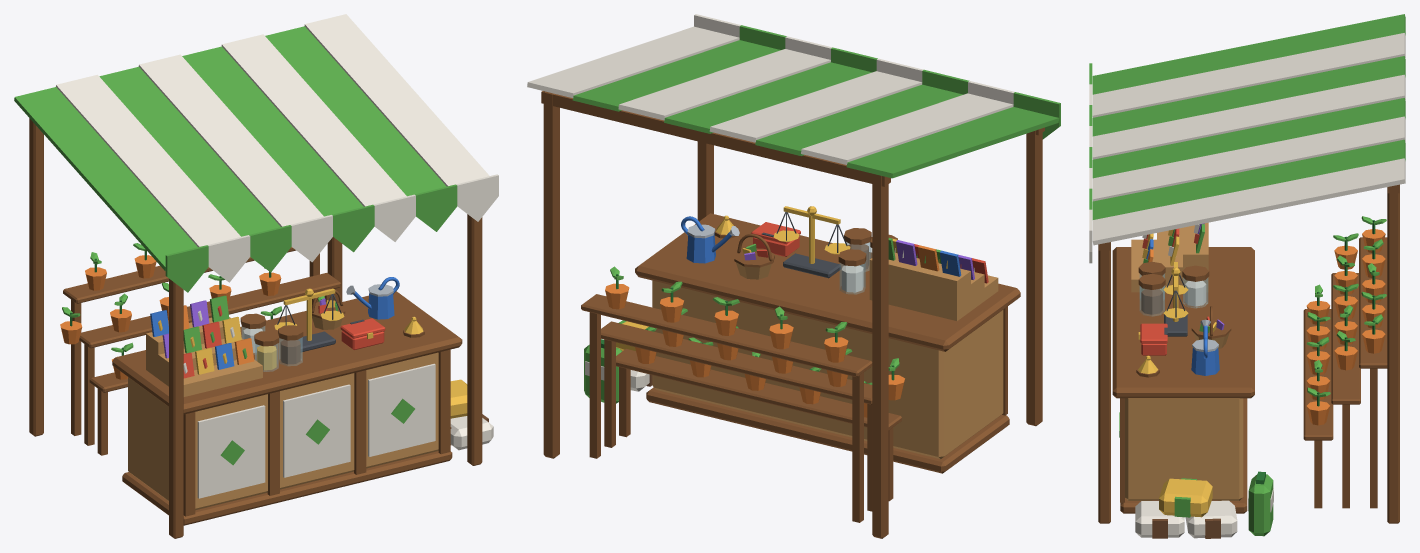
File: seed-shop-counter.glb
3 views of the same model, side by side, from view 1: azimuth 30°, elevation 25°; view 2: azimuth 150°, elevation 25°; view 3: azimuth 270°, elevation 25° (orthographic). The views are drawn at different scales.
Visible parts, largest first — view 1: Counter_Top, Counter_Body, Awning_Stripe_0, Awning_Stripe_7, Awning_Stripe_5, Awning_Stripe_1, Awning_Stripe_3, Awning_Stripe_2, Awning_Stripe_4, Awning_Stripe_6, Counter_Panel_0, Counter_Panel_1 (+30 smaller); view 2: Counter_Body, Counter_Top, Awning_Post_BR, Awning_Post_BL, Awning_Stripe_0, Awning_Stripe_7, Awning_Stripe_5, Awning_Stripe_3, Awning_Stripe_1, Awning_Post_FL, Shelf_Tier_2, Counter_Base (+24 smaller); view 3: Counter_Top, Counter_Body, Awning_Stripe_7, Awning_Stripe_3, Awning_Stripe_5, Awning_Stripe_1, Awning_Stripe_0, Awning_Stripe_2, Awning_Stripe_6, Awning_Stripe_4, Awning_Post_BR, Awning_Post_FR (+25 smaller).
Part boxes in pixels (x1,y1,x2,y2): Counter_Top: [112, 291, 462, 414]; Counter_Body: [128, 352, 438, 510]; Awning_Stripe_0: [14, 87, 197, 270]; Awning_Stripe_7: [304, 14, 489, 186]; Awning_Stripe_5: [221, 34, 406, 206]; Awning_Stripe_1: [56, 74, 240, 247]; Awning_Stripe_3: [138, 54, 323, 226]; Awning_Stripe_2: [99, 66, 280, 236]; Awning_Stripe_4: [182, 46, 363, 216]; Awning_Stripe_6: [265, 26, 446, 196]; Counter_Panel_0: [197, 405, 265, 498]; Counter_Panel_1: [283, 384, 350, 477]; Counter_Body: [652, 280, 1003, 459]; Counter_Top: [635, 213, 1020, 351]; Awning_Post_BR: [543, 91, 559, 458]; Awning_Post_BL: [872, 174, 888, 538]; Awning_Stripe_0: [846, 107, 1058, 178]; Awning_Stripe_7: [527, 26, 739, 97]; Awning_Stripe_5: [618, 49, 830, 120]; Awning_Stripe_3: [709, 71, 922, 142]; Awning_Stripe_1: [801, 93, 1013, 164]; Awning_Post_FL: [1026, 130, 1042, 426]; Shelf_Tier_2: [581, 294, 872, 377]; Counter_Base: [646, 387, 1009, 473]; Counter_Top: [1112, 247, 1254, 398]; Counter_Body: [1125, 398, 1243, 500]; Awning_Stripe_7: [1092, 158, 1405, 245]; Awning_Stripe_3: [1092, 74, 1405, 159]; Awning_Stripe_5: [1092, 116, 1405, 201]; Awning_Stripe_1: [1092, 33, 1405, 117]; Awning_Stripe_0: [1092, 14, 1405, 94]; Awning_Stripe_2: [1092, 56, 1405, 136]; Awning_Stripe_6: [1092, 139, 1405, 219]; Awning_Stripe_4: [1092, 98, 1405, 178]; Awning_Post_BR: [1387, 185, 1399, 523]; Awning_Post_FR: [1098, 242, 1110, 523].
Bounding box in the file's own units: 10.66 × 9.78 × 8.
